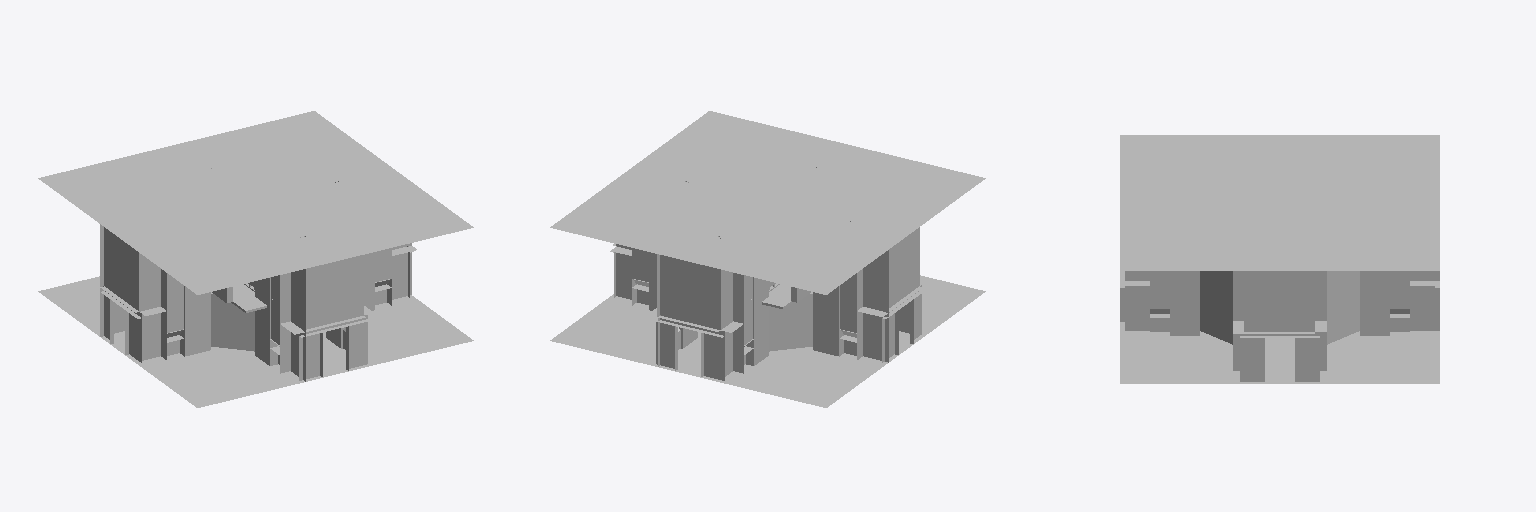
File: Room4_OPT.obj
3 views of the same model, side by side, from view 1: azimuth 30°, elevation 25°; view 2: azimuth 150°, elevation 25°; view 3: azimuth 270°, elevation 25° (orthographic).
Parts seen in each view (by area): view 1: Scene_Root; view 2: Scene_Root; view 3: Scene_Root.
Part boxes in pixels (bbox=[...]): Scene_Root: bbox=[38, 111, 473, 407]; Scene_Root: bbox=[550, 111, 985, 407]; Scene_Root: bbox=[1120, 135, 1439, 383].
Bounding box in the file's own units: 20.48 × 8.5 × 20.48.